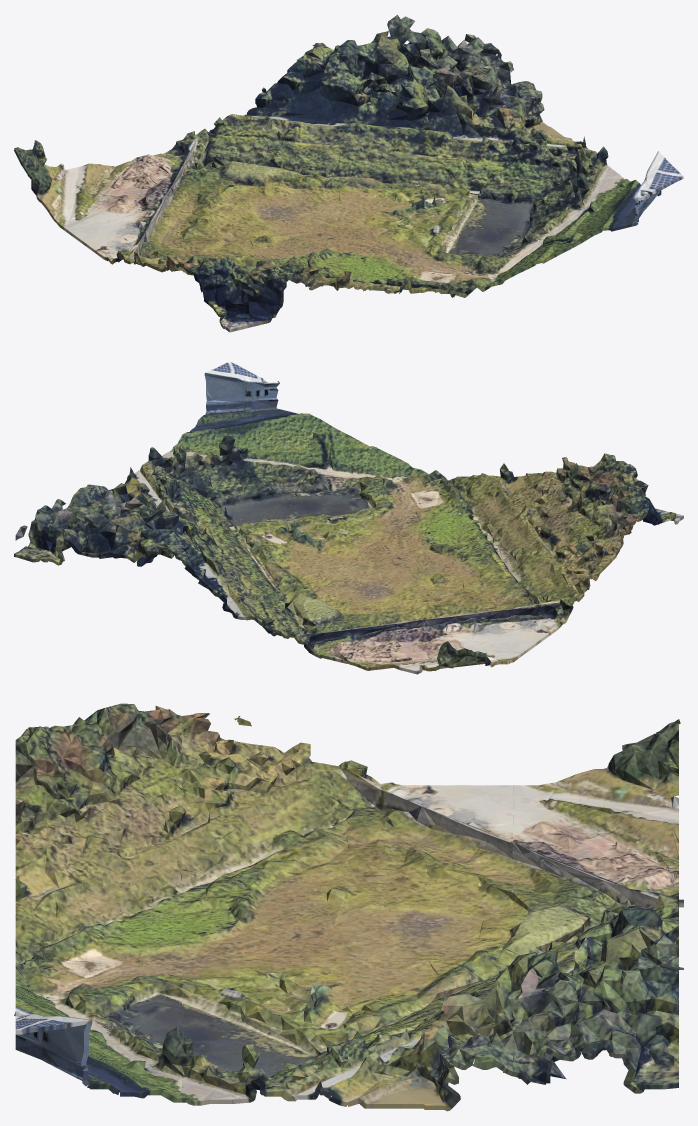
The model's file is Split8.fbx.
3 renders of one model, top to bottom at view 1: azimuth 30°, elevation 25°; view 2: azimuth 150°, elevation 25°; view 3: azimuth 270°, elevation 25°, orthographic. The views are drawn at different scales.
Parts seen in each view (by area): view 1: BuildingMesh-00165; view 2: BuildingMesh-00165; view 3: BuildingMesh-00165.
Part boxes in pixels (x1,y1,x2,y2): BuildingMesh-00165: (14,14,683,332); BuildingMesh-00165: (14,361,683,674); BuildingMesh-00165: (14,703,683,1111).
Bounding box in the file's own units: 195 × 38.82 × 161.
Materials: 5 (5 with a texture image).
